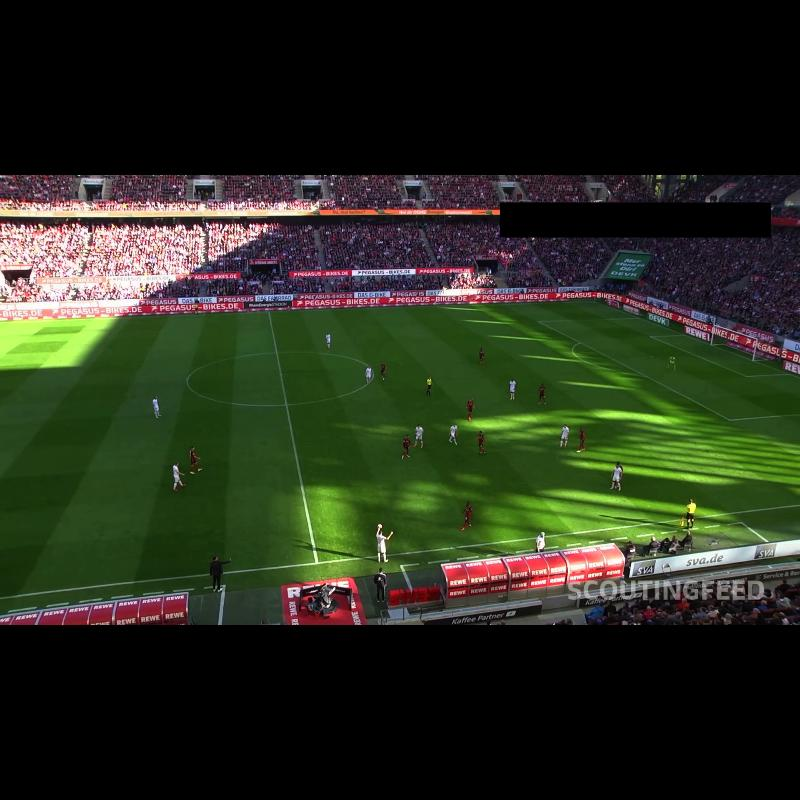cross_recipient_zone: (537, 318, 800, 420)
crossing_player_zone: (616, 414, 800, 513), (436, 302, 638, 323), (0, 320, 92, 337)
pitch: (0, 301, 800, 598)
